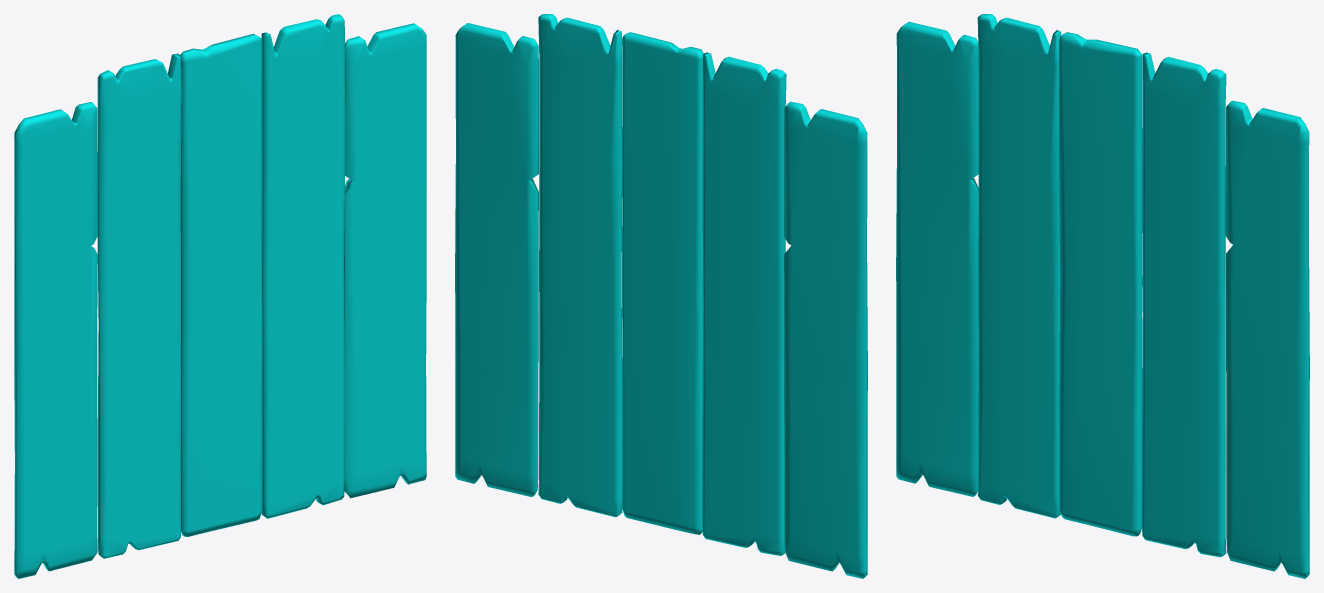
File: Wall_Arch.fbx
3 views of the same model, side by side, from view 1: azimuth 30°, elevation 25°; view 2: azimuth 150°, elevation 25°; view 3: azimuth 330°, elevation 25° (orthographic).
Parts seen in each view (by area): view 1: Plank2_L5, Plank2_L6, Plank3_L7, Plank1_L5, Plank1_L6; view 2: Plank2_L6, Plank2_L5, Plank3_L7, Plank1_L5, Plank1_L6; view 3: Plank2_L6, Plank3_L7, Plank2_L5, Plank1_L6, Plank1_L5.
Boxes of the visible parts, x1,y1,x2,y2 form: Plank2_L5: (97,53,181,558); Plank2_L6: (261,14,345,518); Plank3_L7: (180,33,262,536); Plank1_L5: (14,102,97,578); Plank1_L6: (344,23,426,498); Plank2_L6: (538,14,622,517); Plank2_L5: (702,52,786,555); Plank3_L7: (622,32,703,534); Plank1_L5: (784,101,867,578); Plank1_L6: (455,23,538,496); Plank2_L6: (1142,52,1226,557); Plank3_L7: (1059,32,1142,536); Plank2_L5: (977,14,1061,518); Plank1_L6: (1225,100,1309,578); Plank1_L5: (896,21,978,496).
Size of the model in its own units: 1.25 by 1.41 by 0.0362.
